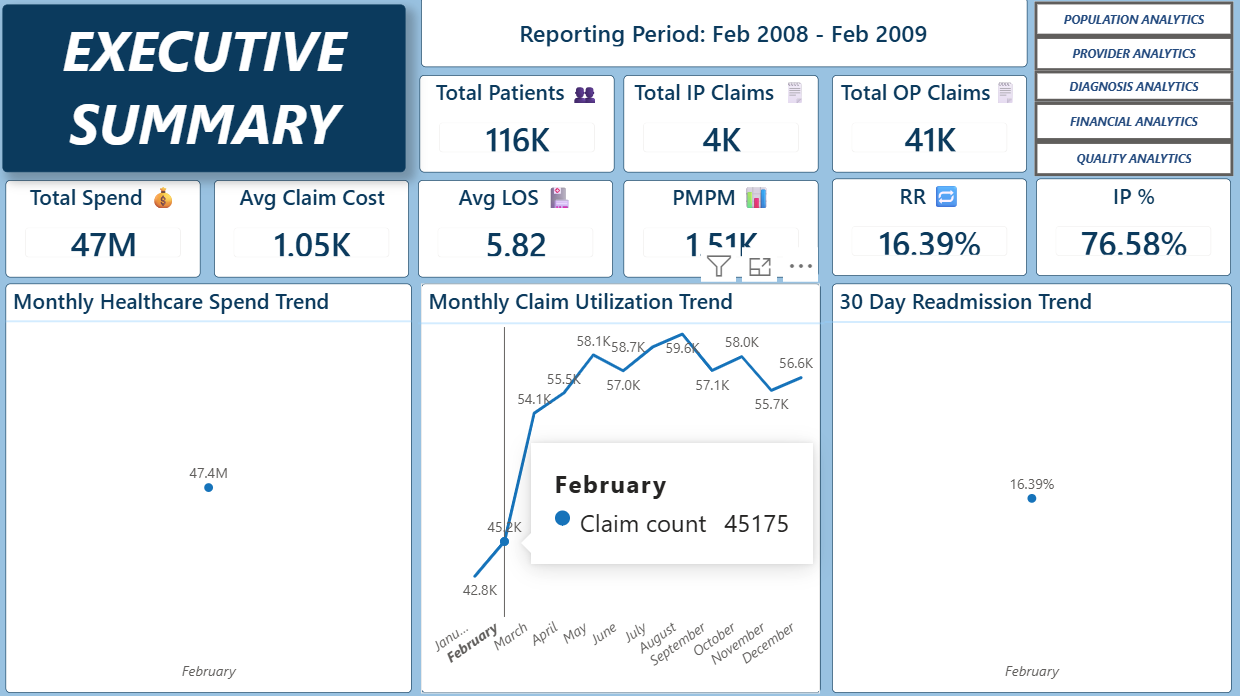

This screenshot's page, from the dashboard's own definition file:
{"tool":"powerbi","page":{"name":"Executive Summary","canvas":[1280,720],"ordinal":1},"visuals":[{"type":"cardVisual","title":"Total Patients 👥","fields":{"Data":["Measures_Healthcare.Total Patients"]},"box":[435,80,200,100],"z":0},{"type":"cardVisual","title":"Total IP Claims 🗒️","fields":{"Data":["Measures_Healthcare.Total Inpatient Claims"]},"box":[645,80,200,100],"z":1000},{"type":"cardVisual","title":"IP %","fields":{"Data":["Measures_Healthcare.IP Spend %"]},"box":[1067.8,186.1,200,100],"z":2000},{"type":"cardVisual","title":"Avg LOS 🏥","fields":{"Data":["Measures_Healthcare.Avg LOS"]},"box":[434.4,187.8,200,100],"z":3000},{"type":"cardVisual","title":"Avg Claim Cost ","fields":{"Data":["Measures_Healthcare.Average Claim Cost"]},"box":[225,188.3,200,100],"z":4000},{"type":"cardVisual","title":"PMPM 📊","fields":{"Data":["Measures_Healthcare.PMPM"]},"box":[644.4,187.8,200,100],"z":5000},{"type":"cardVisual","title":"RR 🔁","fields":{"Data":["Measures_Healthcare.30 Day Readmission Rate"]},"box":[857.8,186.1,200,100],"z":6000},{"type":"cardVisual","title":"Total OP Claims🗒️","fields":{"Data":["Measures_Healthcare.Total Outpatient Claims"]},"box":[858.3,80,200,100],"z":7000},{"type":"cardVisual","title":"Total Spend 💰","fields":{"Data":["Measures_Healthcare.Total Spend"]},"box":[10,188.3,200,100],"z":8000},{"type":"lineChart","title":"Monthly Healthcare Spend Trend","fields":{"Y":["Measures_Healthcare.Total Spend"],"Category":["Dim_Date.FullDate.Variation.Date Hierarchy.Month"]},"box":[10,293.3,416.7,420],"z":9000},{"type":"lineChart","title":"Monthly Claim Utilization Trend","fields":{"Category":["Dim_Date.FullDate.Variation.Date Hierarchy.Month"],"Y":["Measures_Healthcare.Claim count"]},"box":[436.7,293.3,410,420],"z":10000},{"type":"lineChart","title":"30 Day Readmission Trend","fields":{"Category":["Dim_Date.FullDate.Variation.Date Hierarchy.Month"],"Y":["Measures_Healthcare.30 Day Readmission Rate"]},"box":[858.3,293.3,410,420],"z":11000},{"type":"textbox","box":[8.3,8.3,413.3,171.7],"z":12000},{"type":"cardVisual","fields":{"Data":["Measures_Healthcare.Selected Period"]},"box":[436.7,0,621.7,71.7],"z":13000},{"type":"shape","box":[10,318.3,416.7,28.3],"z":14000},{"type":"shape","box":[850,320,416.7,26.7],"z":15000},{"type":"shape","box":[433.3,313.3,416.7,41.7],"z":16000},{"type":"actionButton","box":[1066,4,204,36],"z":20000},{"type":"actionButton","box":[1066,40,204,36],"z":21000},{"type":"actionButton","box":[1066,108,204,40],"z":22000},{"type":"actionButton","box":[1066,148,204,36],"z":23000},{"type":"actionButton","box":[1066,76,204,32],"z":24000}]}

Visuals, with their boxes in screenshot pixels (x1, y1, x2, y2), scaled from the page's 1280x720 canvas onto the 1240x696 screenshot:
"Total Patients 👥" cardVisual: detection(421, 77, 615, 174)
"Total IP Claims 🗒️" cardVisual: detection(625, 77, 819, 174)
"IP %" cardVisual: detection(1034, 180, 1228, 277)
"Avg LOS 🏥" cardVisual: detection(421, 182, 615, 278)
"Avg Claim Cost " cardVisual: detection(218, 182, 412, 279)
"PMPM 📊" cardVisual: detection(624, 182, 818, 278)
"RR 🔁" cardVisual: detection(831, 180, 1025, 277)
"Total OP Claims🗒️" cardVisual: detection(831, 77, 1025, 174)
"Total Spend 💰" cardVisual: detection(10, 182, 203, 279)
"Monthly Healthcare Spend Trend" lineChart: detection(10, 284, 413, 690)
"Monthly Claim Utilization Trend" lineChart: detection(423, 284, 820, 690)
"30 Day Readmission Trend" lineChart: detection(831, 284, 1229, 690)
textbox: detection(8, 8, 408, 174)
cardVisual - Measures_Healthcare.Selected Period: detection(423, 0, 1025, 69)
shape: detection(10, 308, 413, 335)
shape: detection(823, 309, 1227, 335)
shape: detection(420, 303, 823, 343)
actionButton: detection(1033, 4, 1230, 39)
actionButton: detection(1033, 39, 1230, 73)
actionButton: detection(1033, 104, 1230, 143)
actionButton: detection(1033, 143, 1230, 178)
actionButton: detection(1033, 73, 1230, 104)
